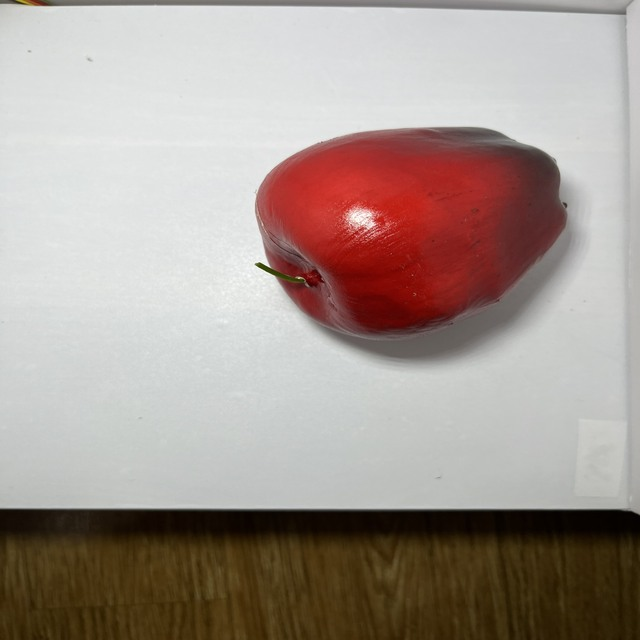Tao: (210, 44, 610, 402)
